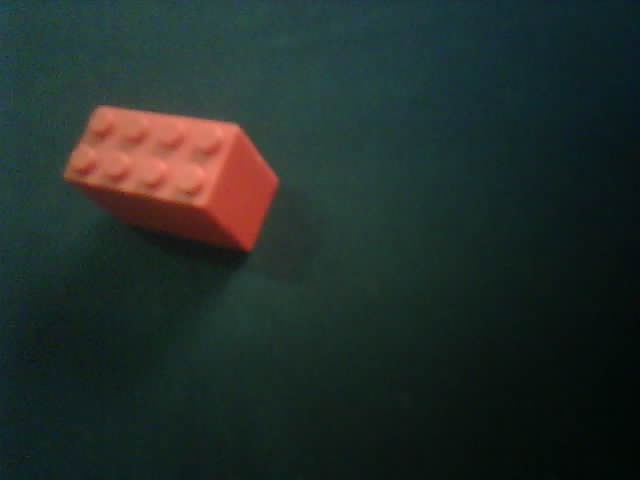lego: (62, 103, 280, 256)
